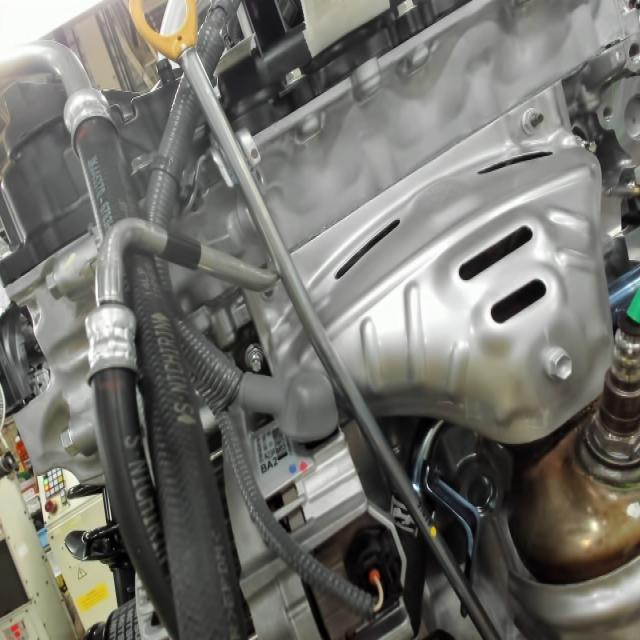Alternator-BA2: (259, 444, 292, 479)
Hose Discharge-HT: (158, 225, 204, 272)
